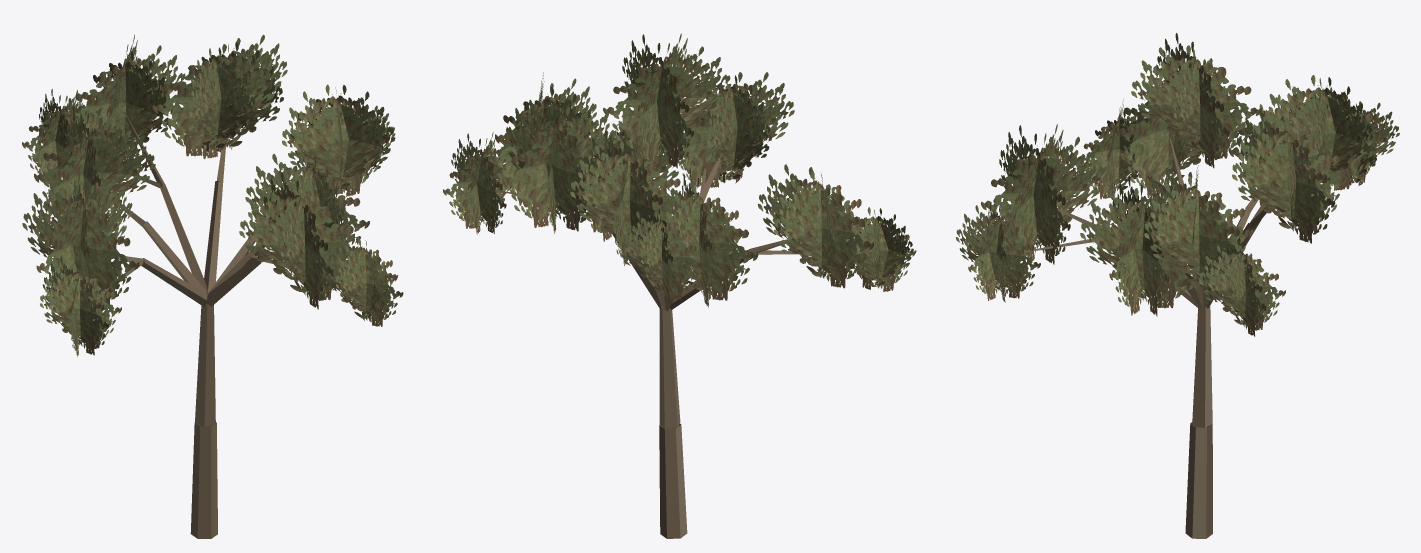
File: Park_Tree_01_Round.fbx
3 renders of one model, left to right at view 1: azimuth 30°, elevation 25°; view 2: azimuth 150°, elevation 25°; view 3: azimuth 270°, elevation 25°, orthographic.
Parts seen in each view (by area): view 1: Park_Tree_01_Round.001; view 2: Park_Tree_01_Round.001; view 3: Park_Tree_01_Round.001.
Boxes of the visible parts, x1,y1,x2,y2 form: Park_Tree_01_Round.001: (22,34,403,538); Park_Tree_01_Round.001: (443,33,916,538); Park_Tree_01_Round.001: (956,33,1399,538).
Bounding box in the file's own units: 441 × 493 × 411.
